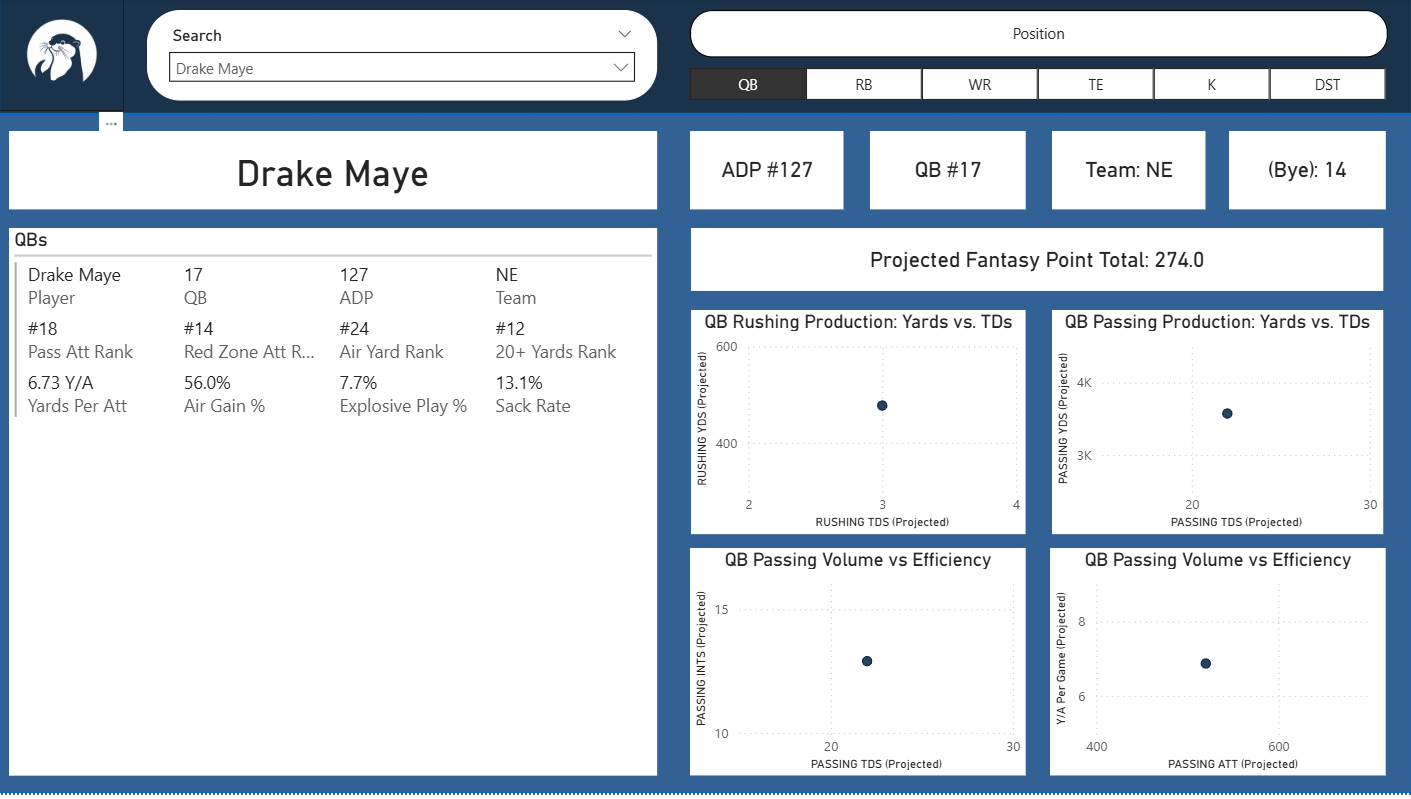

Layout of this report page (visuals, bound fields, positions):
{"tool":"powerbi","page":{"name":"QB","canvas":[1280,720],"ordinal":1},"visuals":[{"type":"group","id":"g1","title":"Group 7","box":[0,0,1279.7,720],"z":0},{"type":"shape","box":[0,0,1279.7,720],"z":0,"group":"g2"},{"type":"shape","box":[141.3,87.8,624,614.9],"z":0,"group":"g12"},{"type":"group","id":"g2","title":"Group 15","box":[0,0,1279.7,720],"z":500,"group":"g1"},{"type":"shape","box":[16.3,5.4,101.4,697.4],"z":1000,"group":"g4"},{"type":"slicer","fields":{"Values":["all_player_data.Player"]},"box":[443.5,21.7,321.8,48],"z":1000,"group":"g6"},{"type":"pageNavigator","box":[26.8,95.1,80.5,594.1],"z":1000,"group":"g5"},{"type":"shape","box":[1039.7,317.9,225,180.2],"z":1000},{"type":"group","id":"g3","title":"Group 13","box":[141.3,0,1053.3,82.4],"z":1500,"group":"g11"},{"type":"group","id":"g4","title":"Group 5","box":[16.3,5.4,101.4,697.4],"z":2000,"group":"g11"},{"type":"shape","box":[790.7,87.8,473.7,215.4],"z":2000,"group":"g12"},{"type":"group","id":"g5","title":"Group 1","box":[26.8,95.1,80.5,594.1],"z":2000,"group":"g7"},{"type":"shape","box":[1039.7,517,225,180.2],"z":2000},{"type":"cardVisual","fields":{"Data":["full_qb_data.QB_Bye_Label"]},"box":[829.5,129.4,99,31.7],"z":3000,"group":"g12"},{"type":"shape","box":[791.5,317.9,225,180.2],"z":3000},{"type":"cardVisual","fields":{"Data":["full_qb_data.Selected_QB"]},"box":[790.7,87.8,473.7,48],"z":4000,"group":"g12"},{"type":"shape","box":[791.5,517.1,225,180.2],"z":4000},{"type":"group","id":"g6","title":"Group 9","box":[141.3,14.5,624,63.4],"z":5000,"group":"g3"},{"type":"textbox","box":[141.3,14.5,283.4,40.8],"z":5000,"group":"g6"},{"type":"shape","box":[960,279.8,141.5,28.1],"z":5000,"group":"g12"},{"type":"scatterChart","title":"QB Pass Production: Yds vs. TDs (Proj)","fields":{"Series":["full_qb_data.Team"],"X":["full_qb_data.PASSING TDS (Projected)"],"Y":["full_qb_data.PASSING YDS (Projected)"],"Size":["Sum(full_qb_data.PASSING ATT (Projected))"]},"box":[791,322,225,175],"z":5000},{"type":"image","box":[937.4,0,81.5,82.4],"z":5001,"group":"g10"},{"type":"image","box":[1030.7,0,86.9,77.9],"z":5003,"group":"g9"},{"type":"textbox","box":[142,46.2,283.4,31.7],"z":6000,"group":"g6"},{"type":"cardVisual","fields":{"Data":["full_qb_data.QB_Team_Label"]},"box":[790.7,129.4,60.1,31.7],"z":6000,"group":"g12"},{"type":"card","fields":{"Values":["full_qb_data.Player_QB__Rank_Label"]},"box":[790,166,209,70.6],"z":6000},{"type":"shape","box":[791.9,146,472.8,31.7],"z":7000,"group":"g12"},{"type":"card","fields":{"Values":["full_qb_data.Player_ADP_Label"]},"box":[1093.1,166,142,70.6],"z":7000},{"type":"image","box":[25.2,5.4,83.7,89.7],"z":8000,"group":"g7"},{"type":"multiRowCard","title":"QBs","fields":{"Values":["full_qb_data.Player","full_qb_data.QB","full_qb_data.Overall","Sum(full_qb_data.MISC FPTS (Projected))","full_qb_data.Rank_ATT_Label","full_qb_data.Rank_RZ_ATT_Label","full_qb_data.Rank_AIR_Label","full_qb_data.Rank_20YDS_Label","full_qb_data.Yards_Per_Attempt","full_qb_data.QB_Air_Gain_Label","full_qb_data.QB_Explosive_Play_Label","full_qb_data.Sack_Rate_Label"]},"box":[150,96,608,600],"z":8000},{"type":"shape","box":[828.2,222.5,142,28],"z":8000,"group":"g12"},{"type":"shape","box":[1092.8,222.5,142,28],"z":9000,"group":"g12"},{"type":"card","fields":{"Values":["full_qb_data.QB_Fantasy_Point_Label"]},"box":[927,225,204,66],"z":9000},{"type":"scatterChart","title":"QB Rush Production: Yds vs. TDs (Proj)","fields":{"Series":["full_qb_data.Team"],"X":["full_qb_data.RUSHING TDS (Projected)"],"Y":["full_qb_data.RUSHING YDS (Projected)"],"Size":["Sum(full_qb_data.RUSHING ATT (Projected))"]},"box":[1039,322,225,175],"z":10000},{"type":"shape","box":[1093.2,9.1,101.4,64.3],"z":11000,"group":"g8"},{"type":"scatterChart","title":"QB Passing Volume vs Efficiency (Proj)","fields":{"Series":["full_qb_data.Team"],"X":["full_qb_data.PASSING ATT (Projected)"],"Y":["full_qb_data.Y/A Per Game (Projected)"],"Size":["Sum(full_qb_data.PASSING TDS (Projected))"]},"box":[791,522,225,175],"z":11000},{"type":"group","id":"g7","title":"Group 4","box":[25.2,5.4,83.7,683.8],"z":11001,"group":"g4"},{"type":"group","id":"g8","title":"Group 10","box":[1093.2,9.1,101.4,64.3],"z":11001,"group":"g9"},{"type":"group","id":"g9","title":"Group 11","box":[1030.7,0,163.9,77.9],"z":11002,"group":"g10"},{"type":"group","id":"g10","title":"Group 12","box":[937.4,0,257.2,82.4],"z":11003,"group":"g3"},{"type":"group","id":"g11","title":"Group 14","box":[16.3,0,1178.3,702.8],"z":11005,"group":"g2"},{"type":"scatterChart","title":"QB Pass Volume vs Efficiency (Proj)","fields":{"Series":["full_qb_data.Team"],"X":["full_qb_data.PASSING TDS (Projected)"],"Y":["full_qb_data.PASSING INTS (Projected)"],"Size":["Sum(full_qb_data.PASSING ATT (Projected))"]},"box":[1039,522,225,175],"z":12000},{"type":"group","id":"g12","title":"Group 2","box":[141.3,87.8,1123.3,614.9],"z":12003,"group":"g1"},{"type":"image","box":[1164.7,2.7,95.1,77.9],"z":13000}]}

Visuals, with their boxes in screenshot pixels (x1, y1, x2, y2), scaled from the page's 1280x720 canvas onto the 1411x799 screenshot:
"Group 7" group: 0,0,1410,798
shape: 0,0,1410,798
shape: 156,97,844,780
"Group 15" group: 0,0,1410,798
shape: 18,6,130,780
slicer - all_player_data.Player: 489,24,844,77
pageNavigator: 30,106,118,765
shape: 1146,353,1394,553
"Group 13" group: 156,0,1317,91
"Group 5" group: 18,6,130,780
shape: 872,97,1394,336
"Group 1" group: 30,106,118,765
shape: 1146,574,1394,774
cardVisual - full_qb_data.QB_Bye_Label: 914,144,1024,179
shape: 873,353,1121,553
cardVisual - full_qb_data.Selected_QB: 872,97,1394,151
shape: 873,574,1121,774
"Group 9" group: 156,16,844,86
textbox: 156,16,468,61
shape: 1058,311,1214,342
"QB Pass Production: Yds vs. TDs (Proj)" scatterChart: 872,357,1120,552
image: 1033,0,1123,91
image: 1136,0,1232,86
textbox: 157,51,469,86
cardVisual - full_qb_data.QB_Team_Label: 872,144,938,179
card - full_qb_data.Player_QB__Rank_Label: 871,184,1101,263
shape: 873,162,1394,197
card - full_qb_data.Player_ADP_Label: 1205,184,1362,263
image: 28,6,120,106
"QBs" multiRowCard: 165,107,836,772
shape: 913,247,1069,278
shape: 1205,247,1361,278
card - full_qb_data.QB_Fantasy_Point_Label: 1022,250,1247,323
"QB Rush Production: Yds vs. TDs (Proj)" scatterChart: 1145,357,1393,552
shape: 1205,10,1317,81
"QB Passing Volume vs Efficiency (Proj)" scatterChart: 872,579,1120,773
"Group 4" group: 28,6,120,765
"Group 10" group: 1205,10,1317,81
"Group 11" group: 1136,0,1317,86
"Group 12" group: 1033,0,1317,91
"Group 14" group: 18,0,1317,780
"QB Pass Volume vs Efficiency (Proj)" scatterChart: 1145,579,1393,773
"Group 2" group: 156,97,1394,780
image: 1284,3,1389,89
